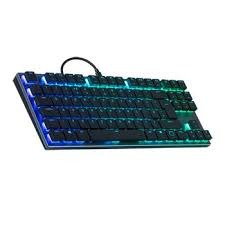keyboard: (5, 66, 213, 155)
